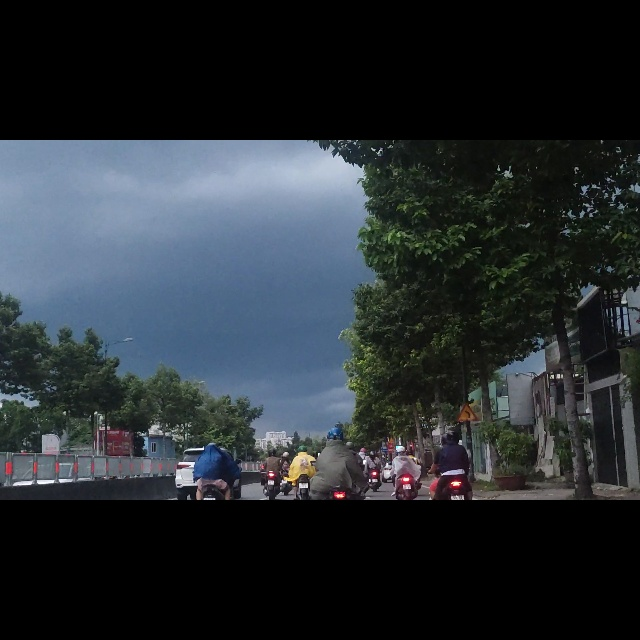bien_nguy_hiem: (455, 468, 479, 500)
